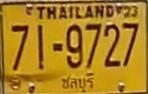1: (37, 24, 43, 69)
2: (104, 24, 120, 66)
7: (11, 24, 28, 69), (85, 23, 101, 67), (122, 22, 138, 65)
9: (66, 24, 82, 67)
CBI: (58, 71, 99, 94)
